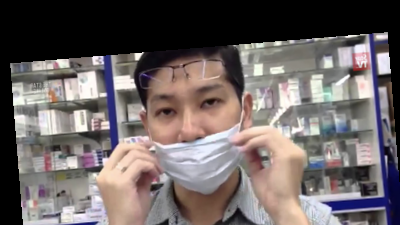mask_weared_incorrect: (119, 38, 280, 211)
